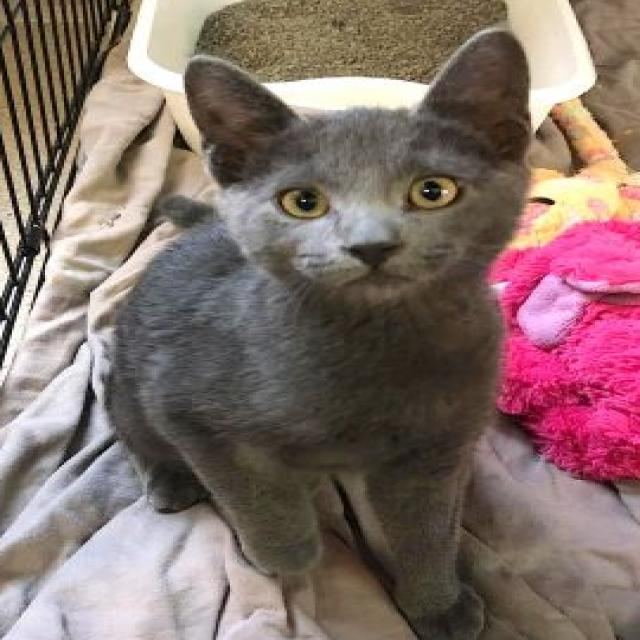Russian Blue: (100, 23, 534, 640)
